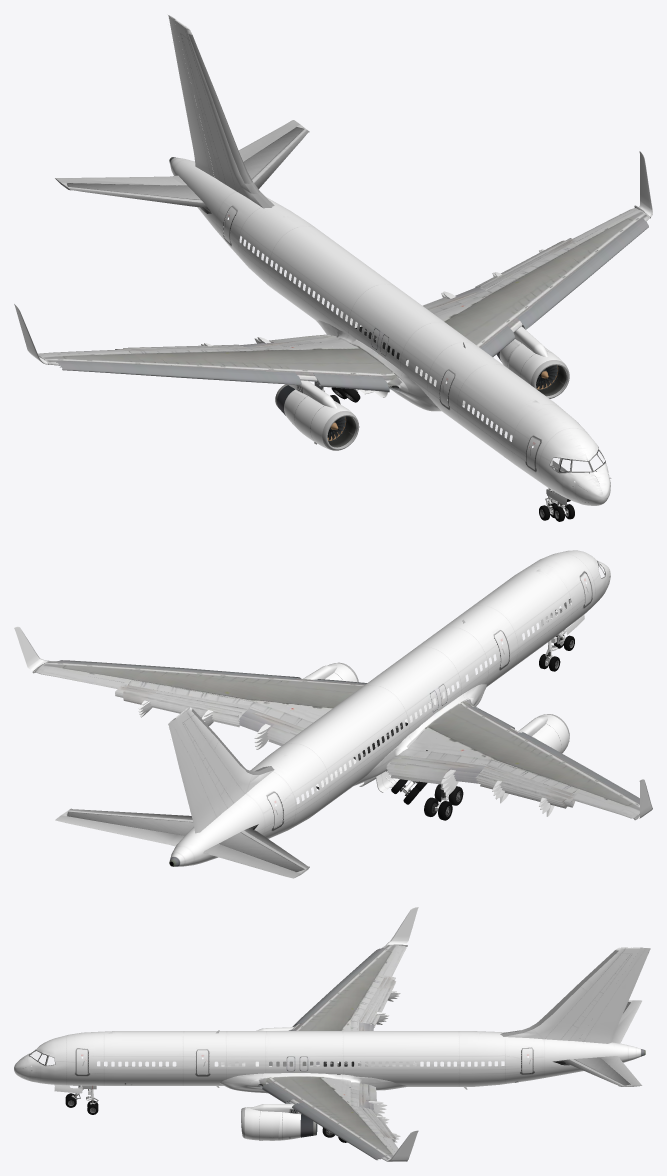
The model's file is BLN.gltf.
3 renders of one model, top to bottom at view 1: azimuth 30°, elevation 25°; view 2: azimuth 150°, elevation 25°; view 3: azimuth 270°, elevation 25°, orthographic. The views are drawn at different scales.
Parts seen in each view (by area): view 1: Exterior, Pose_flaps_4, XLive_4, Pose_flaps_0, Pose_flaps_1, XLive_5, XLive_3, Pose_flaps_2, Pose_gear_2; view 2: Exterior, Pose_flaps_1, XLive_4, Pose_flaps_0, XLive_5, Pose_flaps_4, Pose_flaps_2, Pose_gear_3, Pose_flaps_3, XLive_2, XLive_3, Pose_gear_2 (+1 smaller); view 3: Exterior, XLive_5, Pose_flaps_1, Pose_flaps_0, Pose_flaps_4, XLive_4, XLive_3, Pose_flaps_2, XLive_2, Pose_gear_3.
Part boxes in pixels (x1,y1,x2,y2): Exterior: (14, 19, 652, 505); Pose_flaps_4: (60, 222, 648, 392); XLive_4: (60, 124, 309, 213); Pose_flaps_0: (56, 218, 645, 382); Pose_flaps_1: (59, 221, 645, 383); XLive_5: (167, 14, 214, 177); XLive_3: (55, 175, 186, 185); Pose_flaps_2: (60, 219, 644, 383); Pose_gear_2: (331, 387, 574, 521); Exterior: (14, 550, 652, 866); Pose_flaps_1: (59, 660, 639, 806); XLive_4: (61, 808, 309, 874); Pose_flaps_0: (56, 661, 639, 803); XLive_5: (168, 718, 220, 833); Pose_flaps_4: (60, 660, 639, 816); Pose_flaps_2: (62, 661, 611, 809); Pose_gear_3: (316, 620, 560, 820); Pose_flaps_3: (106, 663, 639, 813); XLive_2: (55, 815, 184, 846); XLive_3: (203, 843, 299, 878); Pose_gear_2: (360, 615, 584, 804); Exterior: (14, 907, 645, 1161); XLive_5: (578, 947, 650, 1043); Pose_flaps_1: (285, 948, 400, 1158); Pose_flaps_0: (271, 947, 396, 1158); Pose_flaps_4: (262, 948, 393, 1160); XLive_4: (553, 1000, 633, 1086); XLive_3: (612, 1000, 641, 1043); Pose_flaps_2: (268, 967, 399, 1159); XLive_2: (600, 1056, 642, 1086); Pose_gear_3: (82, 1085, 347, 1142).
Size of the model in its own units: 38.36 by 13.62 by 46.34.
Materials: 21 (18 with a texture image).
